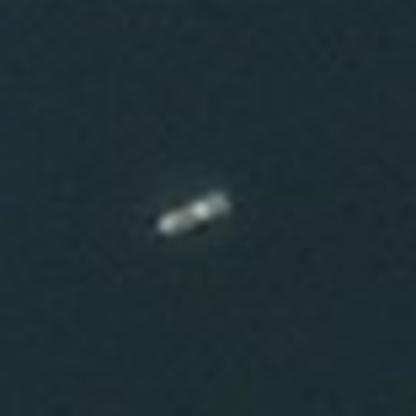ship: (150, 182, 236, 246)
